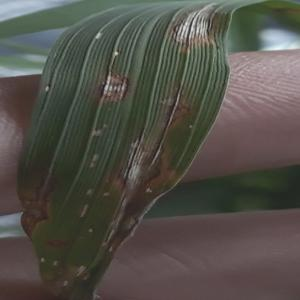1 RiceBlast: (103, 128, 182, 192), (172, 1, 230, 62), (2, 177, 51, 234), (93, 65, 138, 108), (44, 230, 76, 253)
